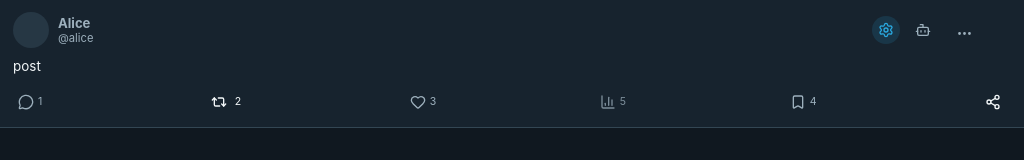
post actions › coalesces a superseded rapid toggle without sending an unnecessary inverse request
Step 1. Click the button named "いいね" → (423, 102), box left=405, top=87, right=441, bottom=117
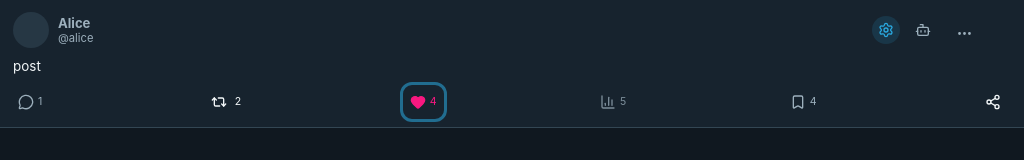
Step 2. Click the button named "いいね" → (423, 102), box left=405, top=87, right=442, bottom=117
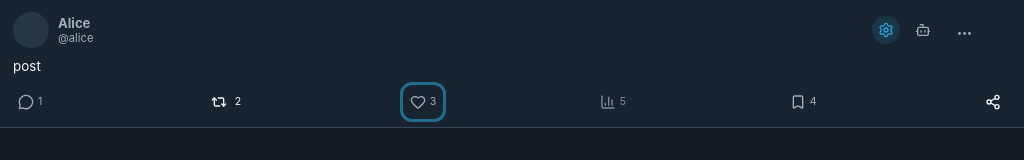
Step 3. Click the button named "いいね" → (423, 102), box left=405, top=87, right=441, bottom=117
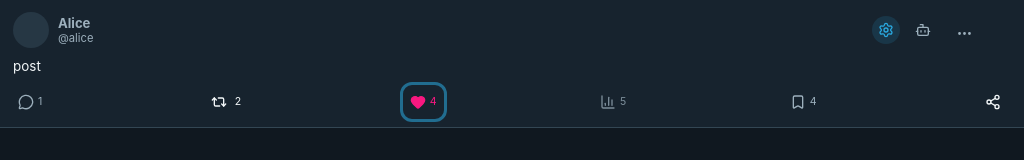
Expected: the button named "いいね" reads "4", left=405, top=87, right=442, bottom=117
